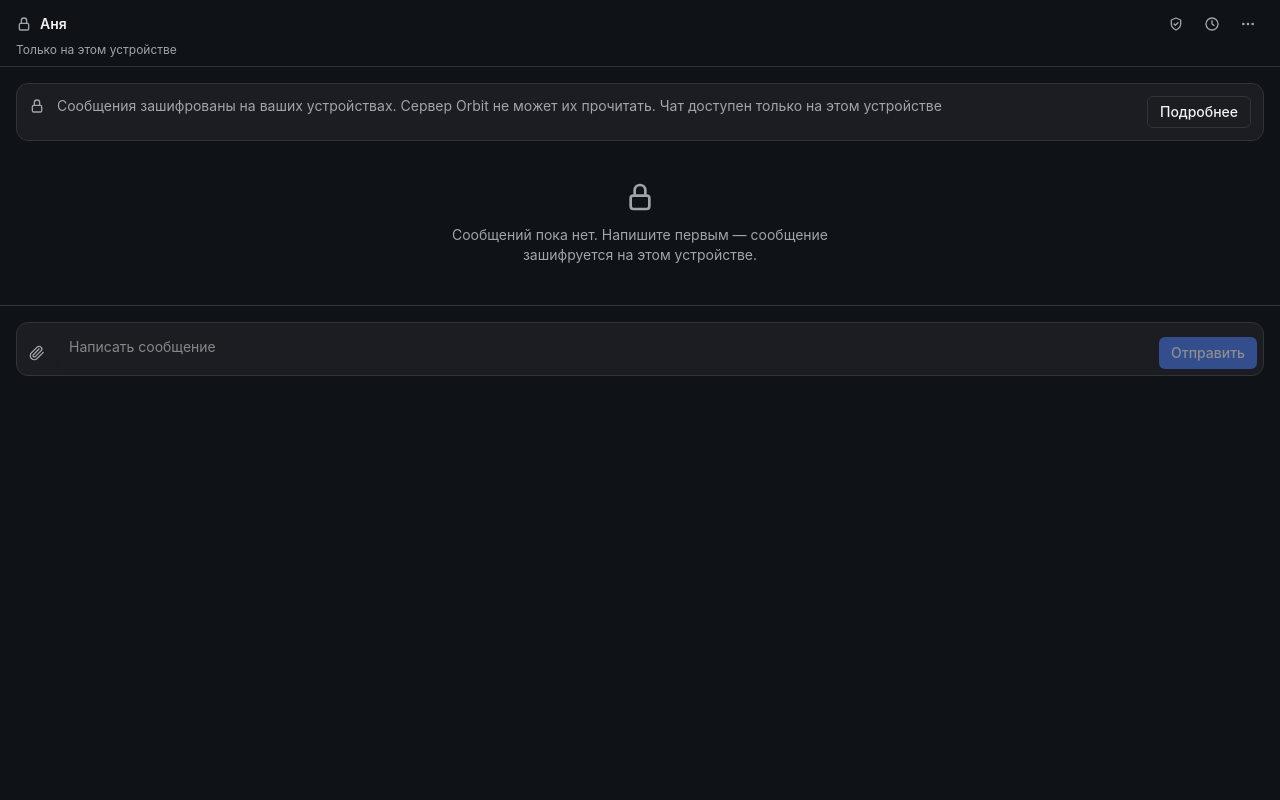
changes the timer from the menu and marks the choice
This screenshot has width=1280, height=800.
Expected: the text "Сообщения зашифрованы на ваших устройствах. Сервер Orbit не может их прочитать. Чат доступен только на этом устройстве" is shown, 57,97 -> 942,114
Click the button named "Таймер самоуничтожения": (1212,24) 1196,8 -> 1228,40
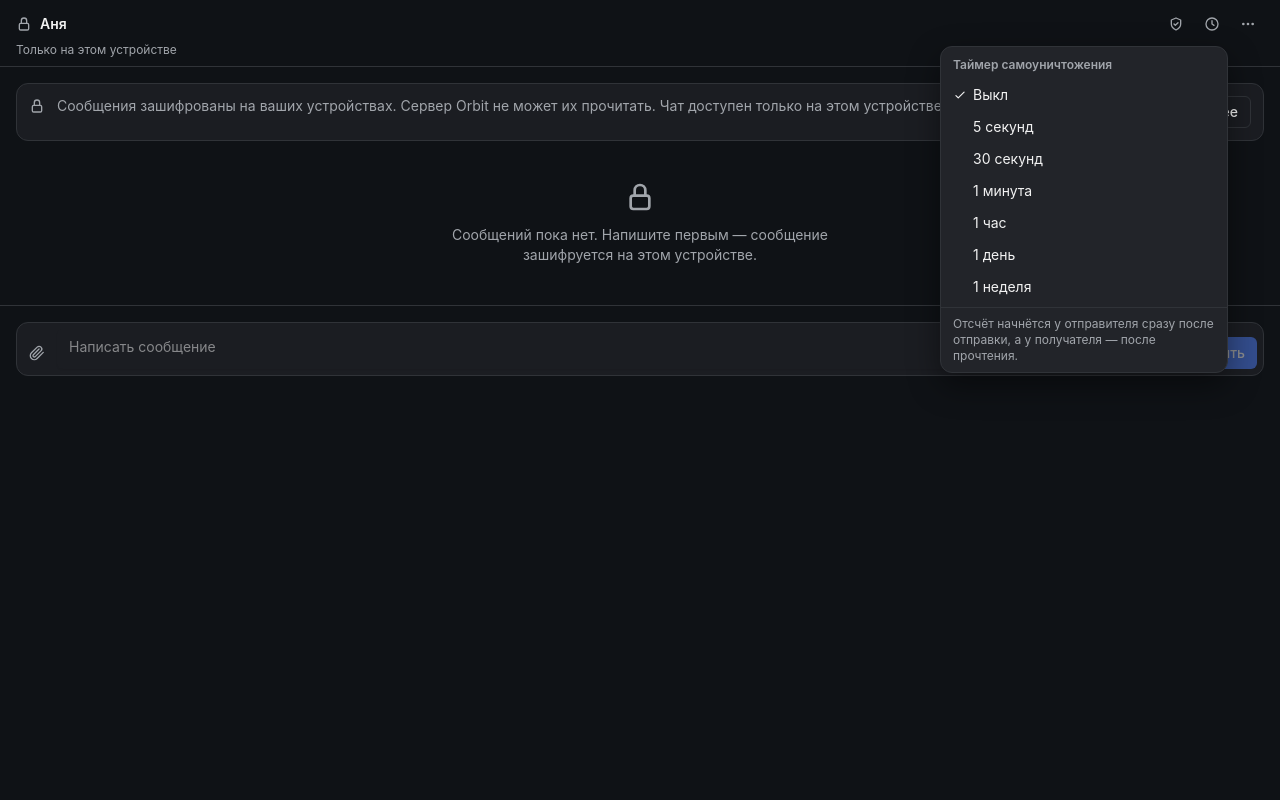
Now the text "Отсчёт начнётся у отправителя сразу после отправки" is shown, box 953,316 -> 1214,363
Click the menu item "5 секунд": (1003,126) 973,118 -> 1034,135
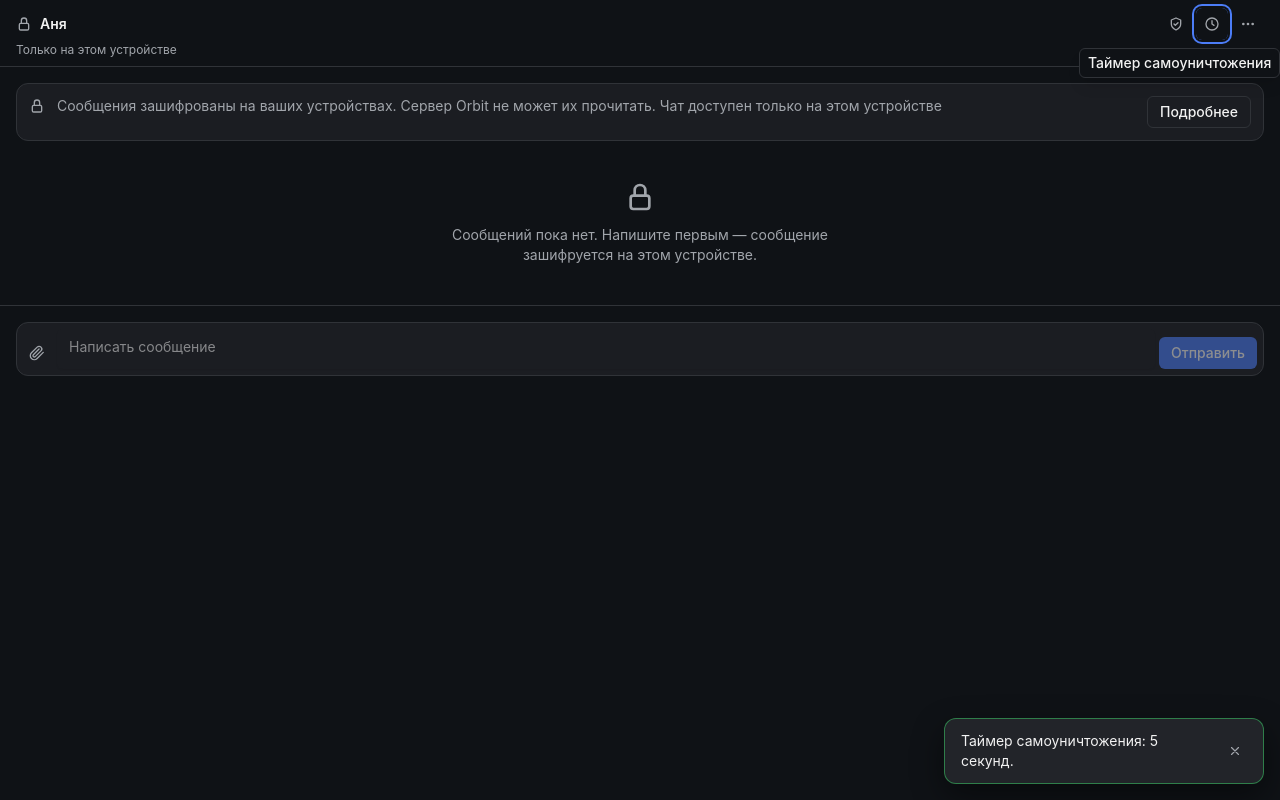
Now the text "Таймер самоуничтожения: 5 секунд." is shown, box 961,732 -> 1158,769
